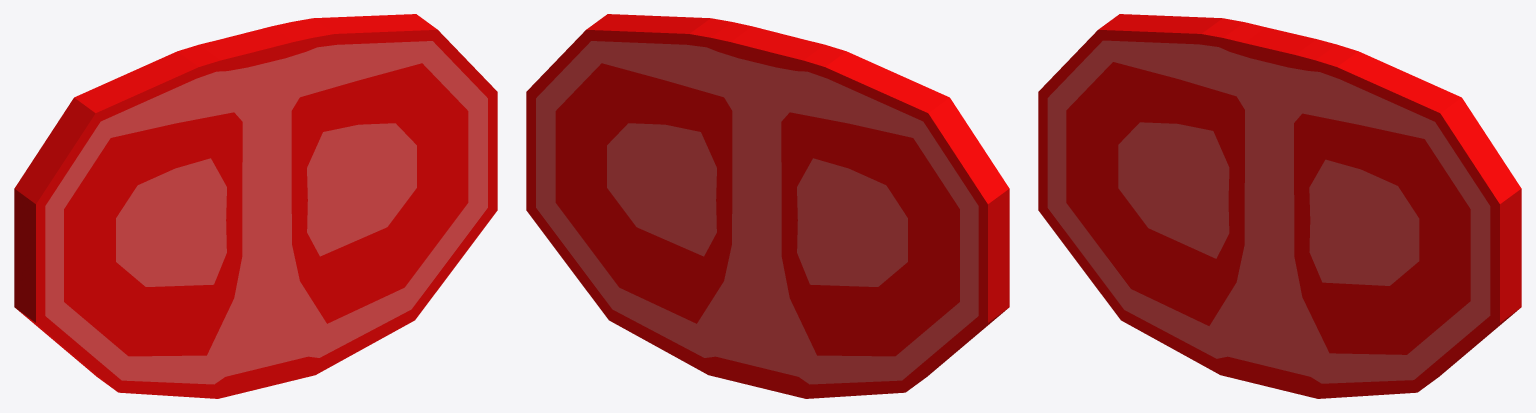
File: tomato03.obj
3 renders of one model, left to right at view 1: azimuth 30°, elevation 25°; view 2: azimuth 150°, elevation 25°; view 3: azimuth 330°, elevation 25°, orthographic.
Parts seen in each view (by area): view 1: Cylinder; view 2: Cylinder; view 3: Cylinder.
Part boxes in pixels (x1,y1,x2,y2): Cylinder: (14, 14, 497, 398); Cylinder: (526, 14, 1009, 398); Cylinder: (1038, 14, 1521, 398).
Size of the model in its own units: 0.0472 by 0.0331 by 0.00383.
Materials: 1 (1 with a texture image).
